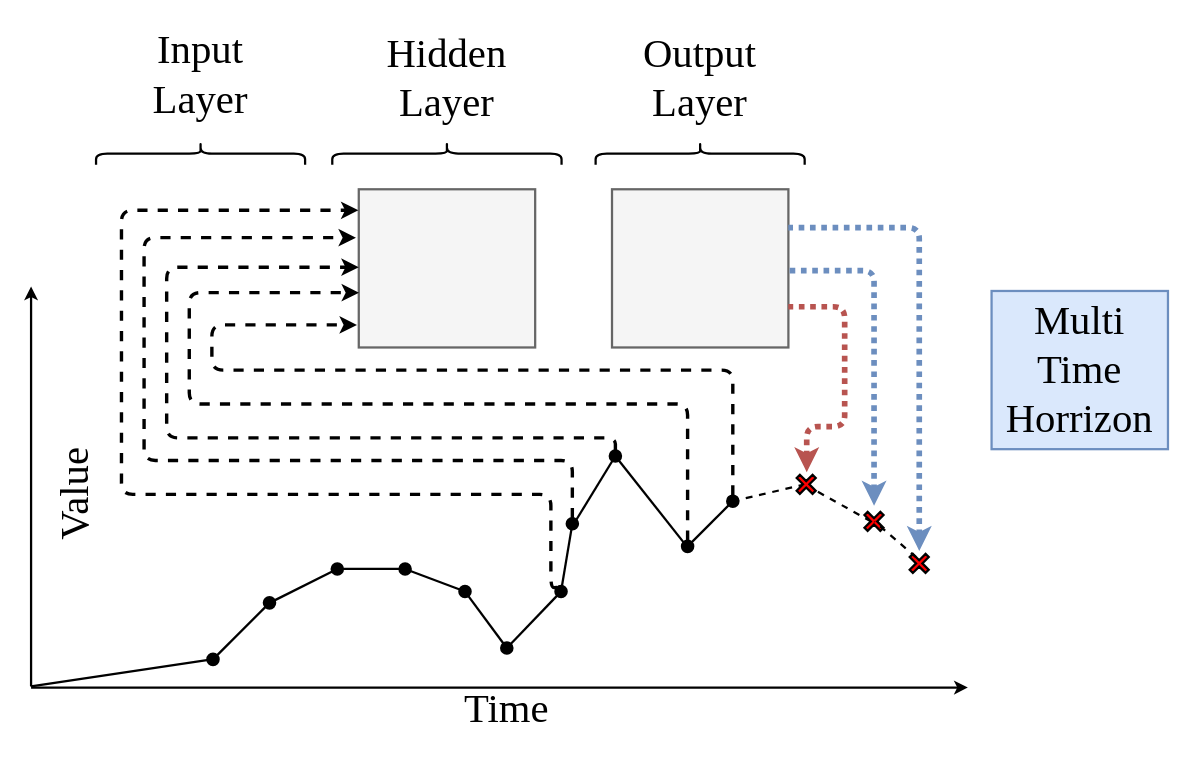
The diagram is 1189 pixels wide and 783 high, and some of its shapes have lost their labels. The shapes that lost their labels are listed below. From the top down, each one's centre as x and y in pixels, then its label:
At (446,268): "LSTM".
At (699,268): "Linear Layer".
